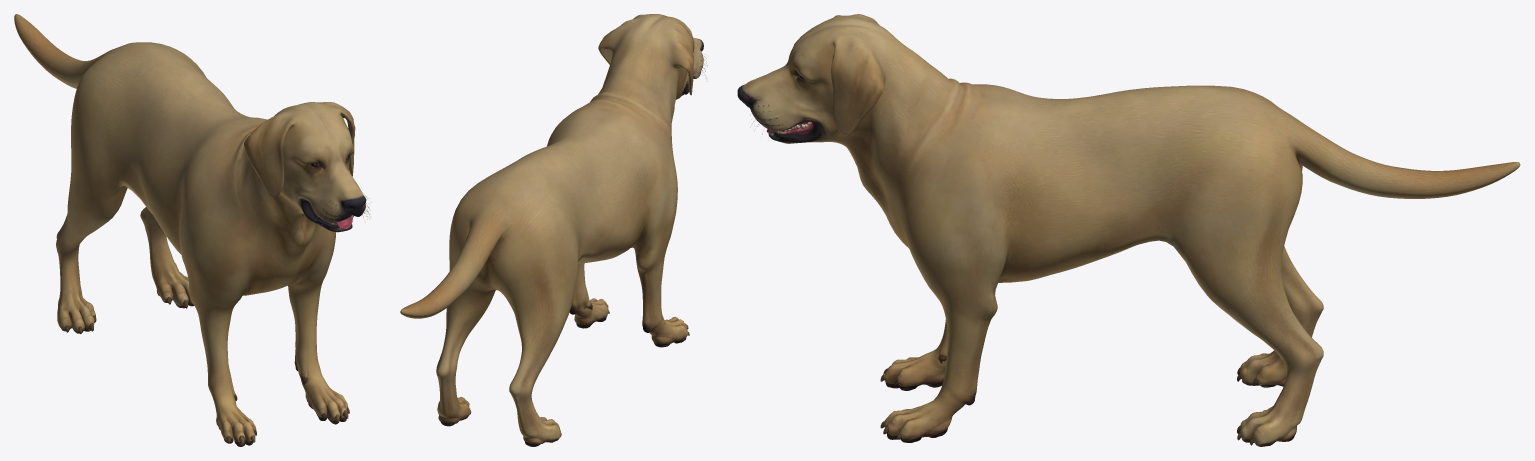
Rendered from dog.glb.
The picture shows the model from 3 angles, left to right: view 1: azimuth 30°, elevation 25°; view 2: azimuth 150°, elevation 25°; view 3: azimuth 270°, elevation 25°; orthographic projection. The views are drawn at different scales.
Parts seen in each view (by area): view 1: node_id126_1; view 2: node_id126_1; view 3: node_id126_1.
Part boxes in pixels (x1,y1,x2,y2): node_id126_1: (14, 14, 371, 446); node_id126_1: (400, 14, 707, 446); node_id126_1: (737, 14, 1520, 446).
Bounding box in the file's own units: 0.2187 × 0.512 × 0.933.
Materials: 1 (1 with a texture image).
